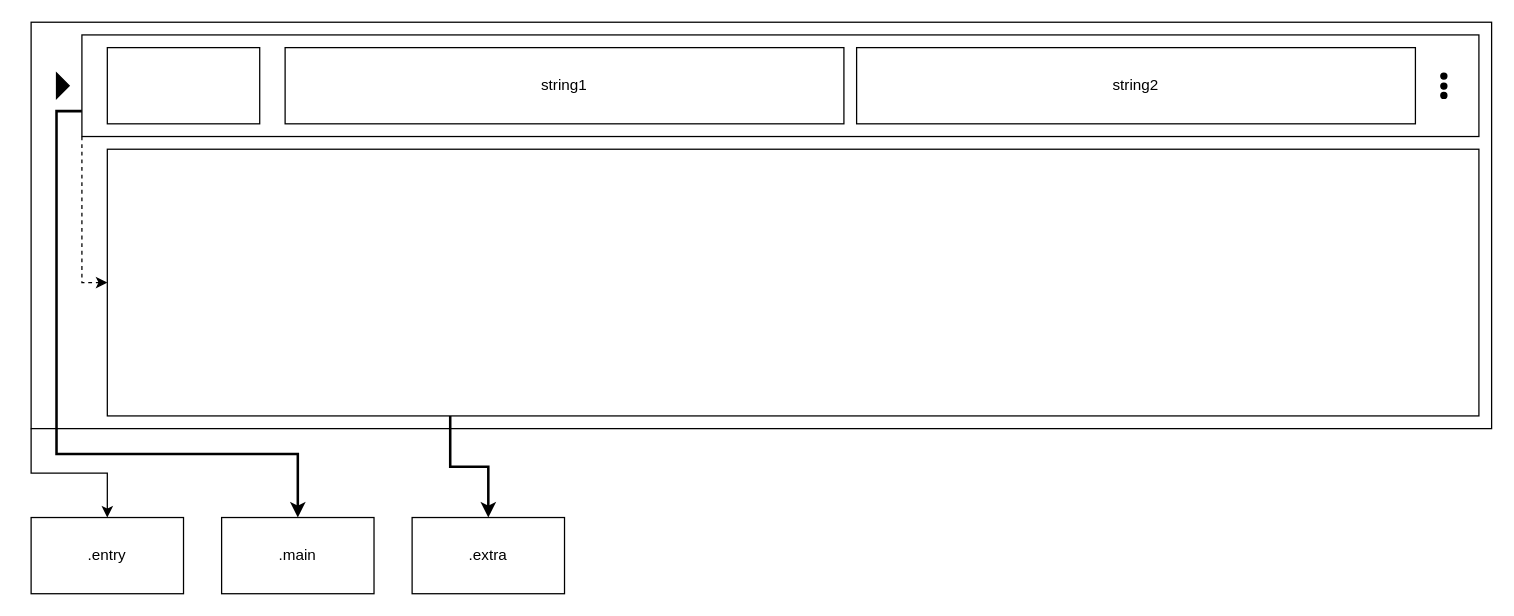
This 1514x616 diagram has some shape labels left out. The shapes that lost their labels are listed below. From the top down, each one's box as (x1, y1, x2, y2) in pixels, then its label:
(106, 46, 260, 124): key
(106, 148, 1479, 416): extra data
